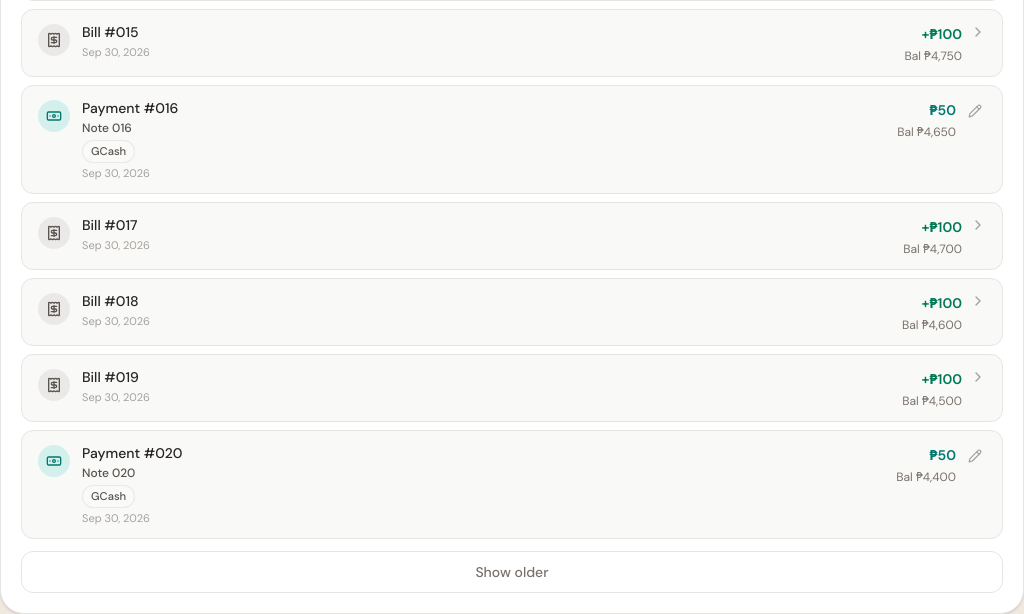
Test case: PersonDetailPage payment lookup cost (C15) › C15: each Show older is one lookup over the whole loaded set, to the last page
(page scrolled)
Click the button "Show older": coordinates (512, 572) [21,552,1003,594]
(page scrolled)
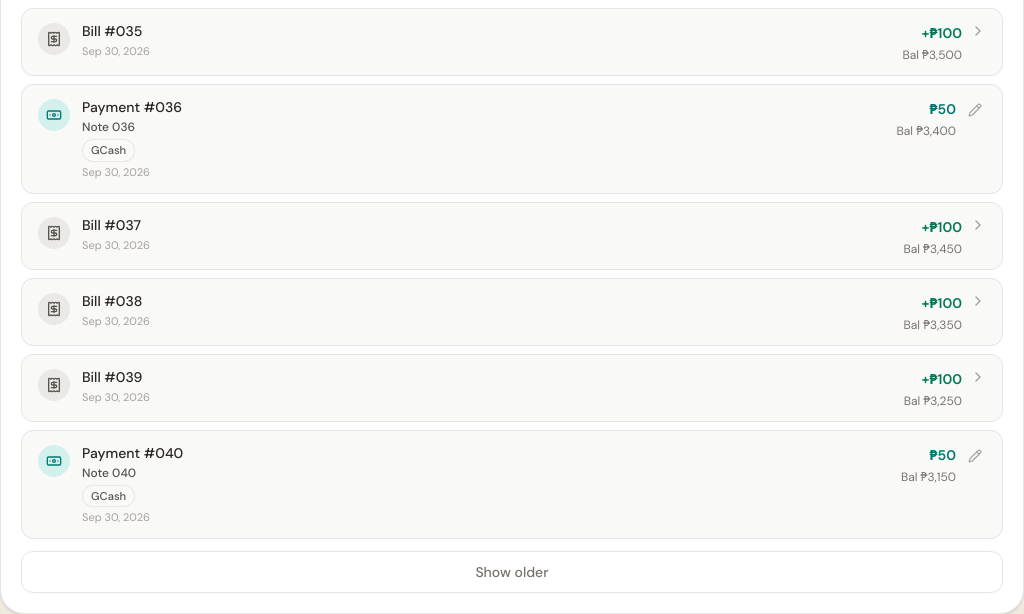
Click the button "Show older": coordinates (512, 572) [21,551,1003,593]
(page scrolled)
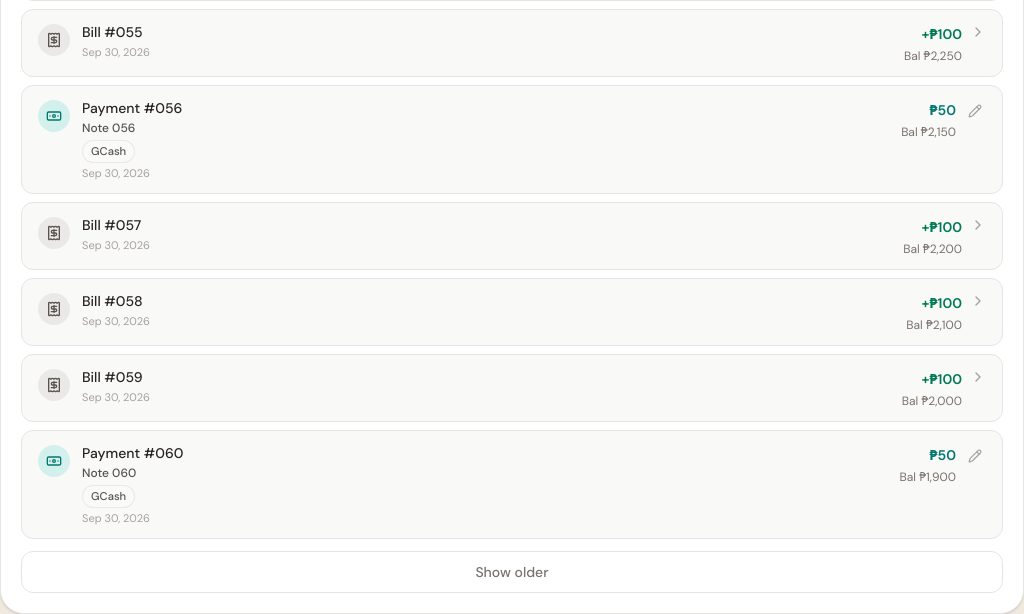
Click the button "Show older": coordinates (512, 572) [21,552,1003,594]
(page scrolled)
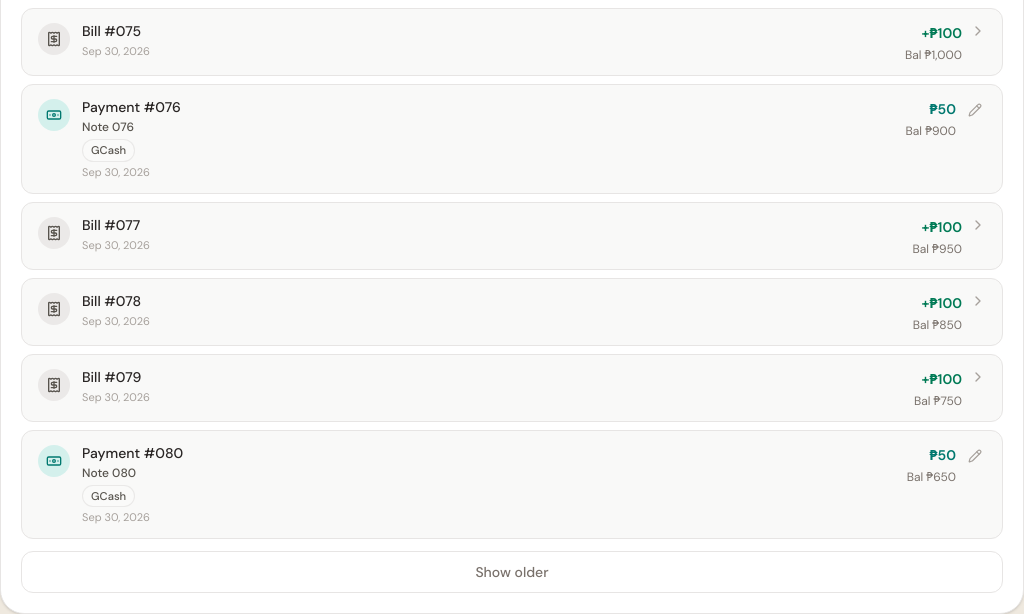
Click the button "Show older": coordinates (512, 572) [21,551,1003,593]
(page scrolled)
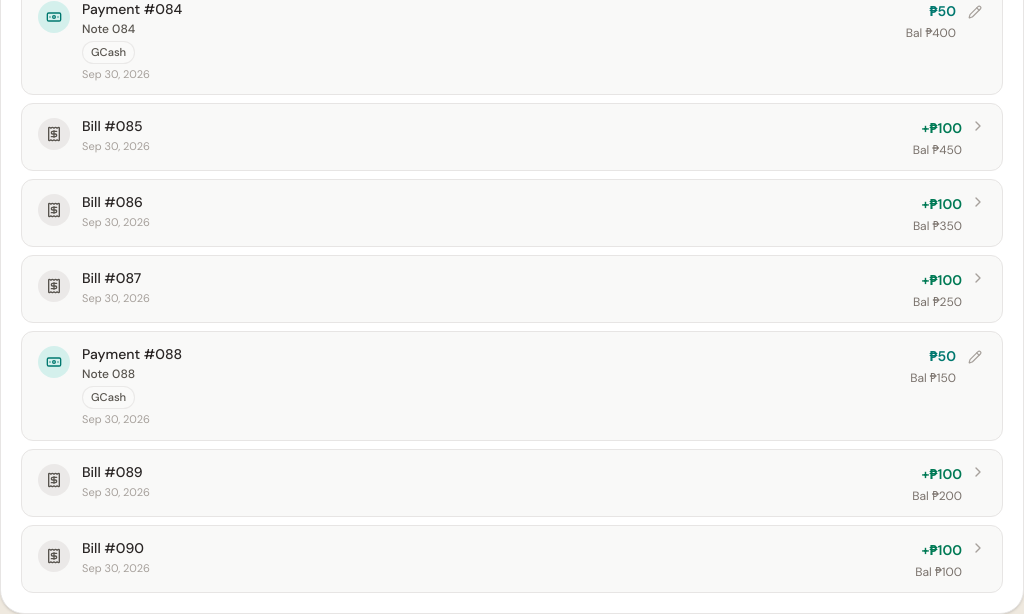
expect the list item "Payment #088 Note 088 GCash Sep 30, 2026 ₱50 Bal ₱150" is shown: met, box [21,331,1003,440]
